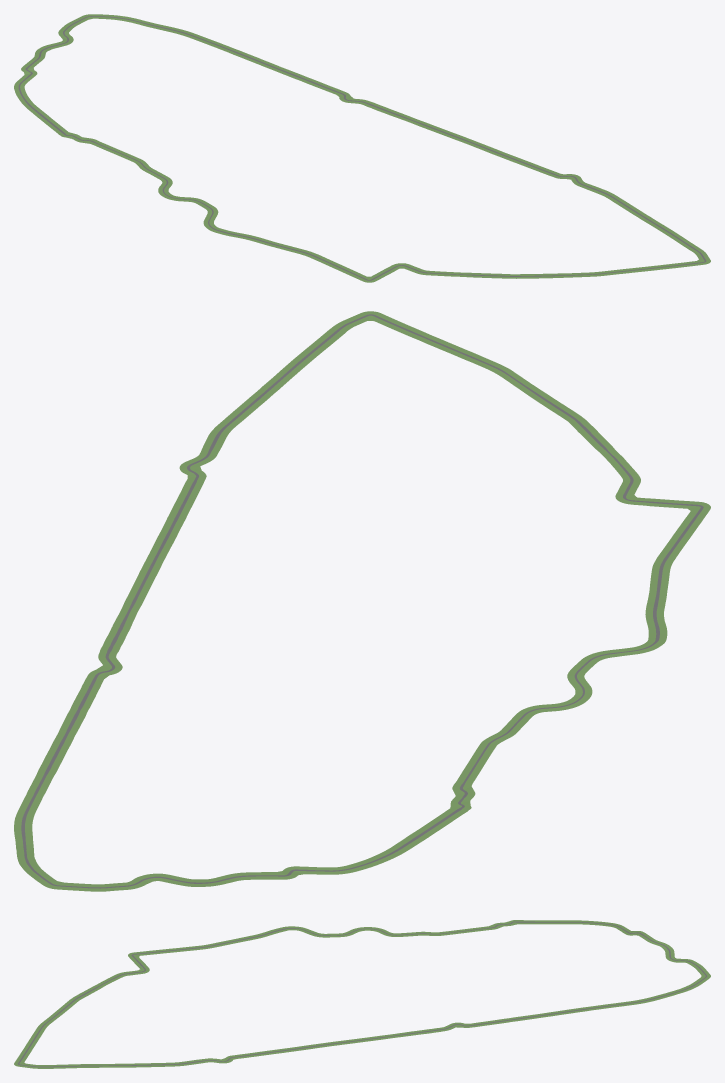
File: road_mesh.glb
3 renders of one model, top to bottom at view 1: azimuth 30°, elevation 25°; view 2: azimuth 150°, elevation 25°; view 3: azimuth 270°, elevation 25°, orthographic. The views are drawn at different scales.
Bounding box in the file's own units: 2789 × 38.06 × 5465.
